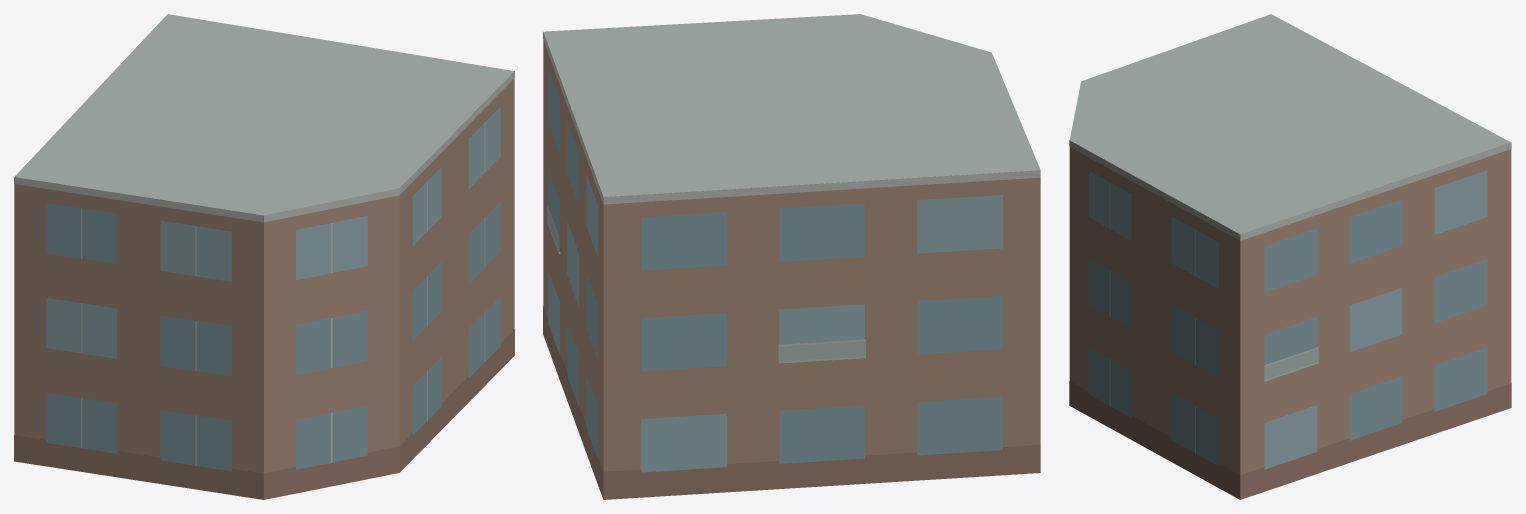
File: survey-upis-32826719.glb
The picture shows the model from 3 angles, left to right: view 1: azimuth 30°, elevation 25°; view 2: azimuth 150°, elevation 25°; view 3: azimuth 270°, elevation 25°; orthographic projection. The views are drawn at different scales.
Visible parts, largest first — view 1: survey-upis-32826719.tmp; view 2: survey-upis-32826719.tmp; view 3: survey-upis-32826719.tmp.
Part boxes in pixels (bbox=[...]): survey-upis-32826719.tmp: bbox=[14, 14, 514, 499]; survey-upis-32826719.tmp: bbox=[543, 14, 1040, 499]; survey-upis-32826719.tmp: bbox=[1069, 14, 1511, 499].
Size of the model in its own units: 17.82 by 10 by 15.1.
